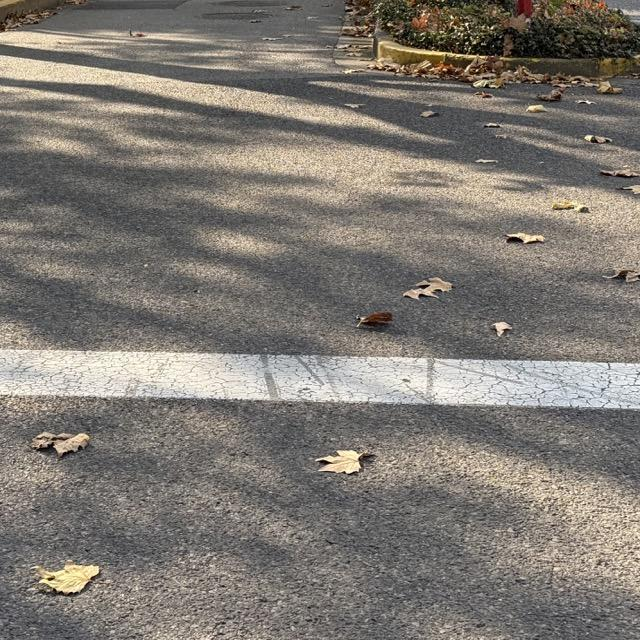curb: (372, 39, 639, 83), (0, 0, 63, 22)
